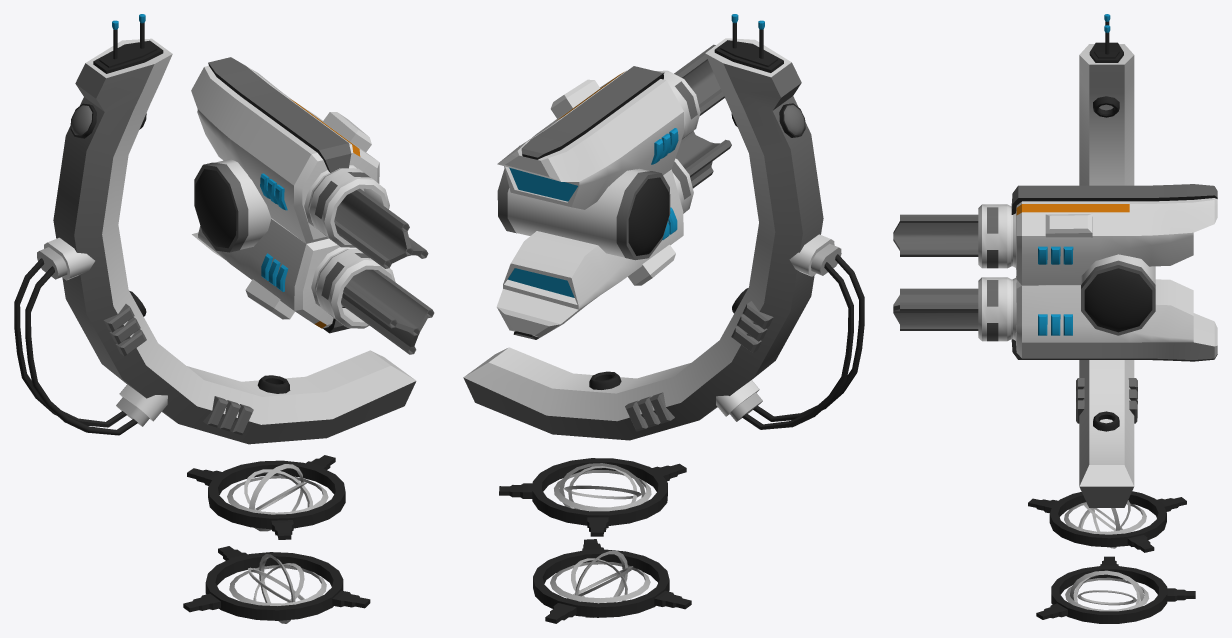
File: tower_gatling_upgrade1_asset.fbx
The picture shows the model from 3 angles, left to right: view 1: azimuth 30°, elevation 25°; view 2: azimuth 150°, elevation 25°; view 3: azimuth 270°, elevation 25°; orthographic projection. The views are drawn at different scales.
Visible parts, largest first — view 1: gatling1_top, gatling1_bottom, gatling_spinner_bottom, gatling_spinner_top; view 2: gatling1_top, gatling1_bottom, gatling_spinner_bottom, gatling_spinner_top; view 3: gatling1_top, gatling1_bottom, gatling_spinner_top, gatling_spinner_bottom.
Part boxes in pixels (x1,y1,x2,y2): gatling1_top: (14, 14, 416, 444); gatling1_bottom: (183, 455, 370, 623); gatling_spinner_bottom: (341, 269, 434, 354); gatling_spinner_top: (334, 188, 428, 268); gatling1_top: (463, 14, 864, 440); gatling1_bottom: (499, 458, 691, 623); gatling_spinner_bottom: (675, 131, 731, 188); gatling_spinner_top: (674, 44, 724, 115); gatling1_top: (978, 14, 1217, 507); gatling1_bottom: (1028, 491, 1195, 623); gatling_spinner_top: (893, 214, 978, 256); gatling_spinner_bottom: (893, 288, 978, 330).
Size of the model in its own units: 167 by 266 by 144.
